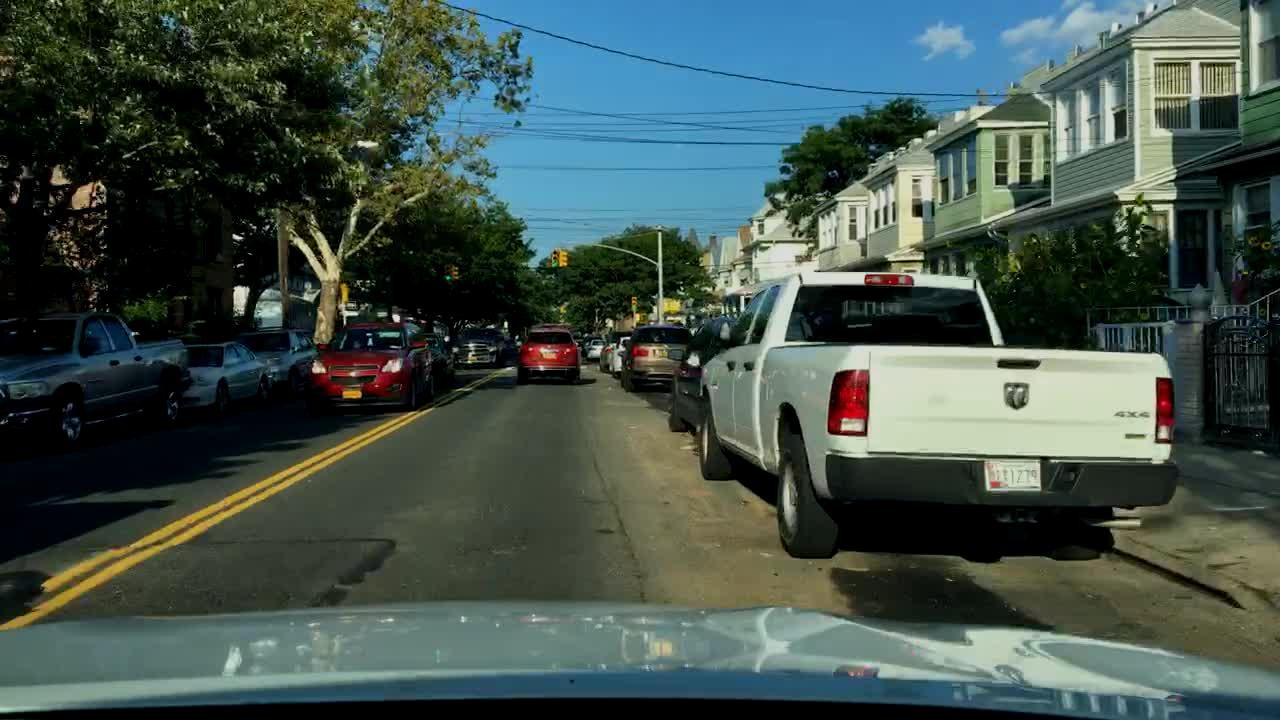ram: (1001, 380, 1032, 411)
